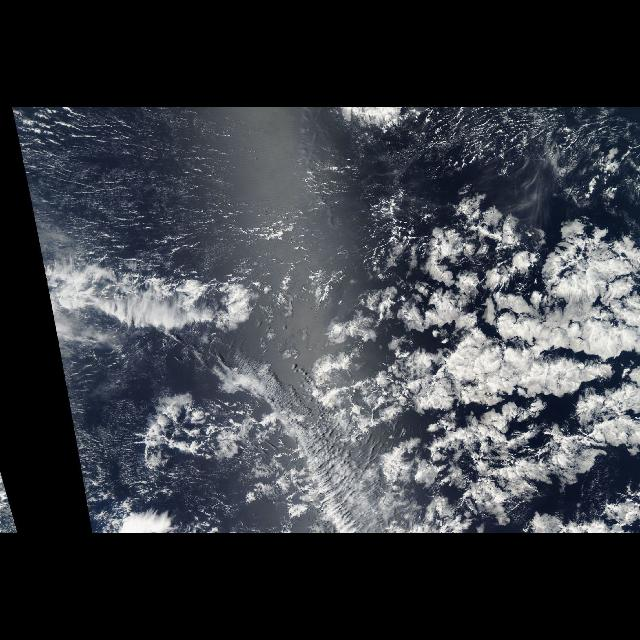Fish: (201, 361, 389, 534), (78, 253, 296, 355)
Flower: (365, 194, 533, 338)
Gravel: (470, 108, 636, 188)
Sugar: (12, 110, 318, 268)
